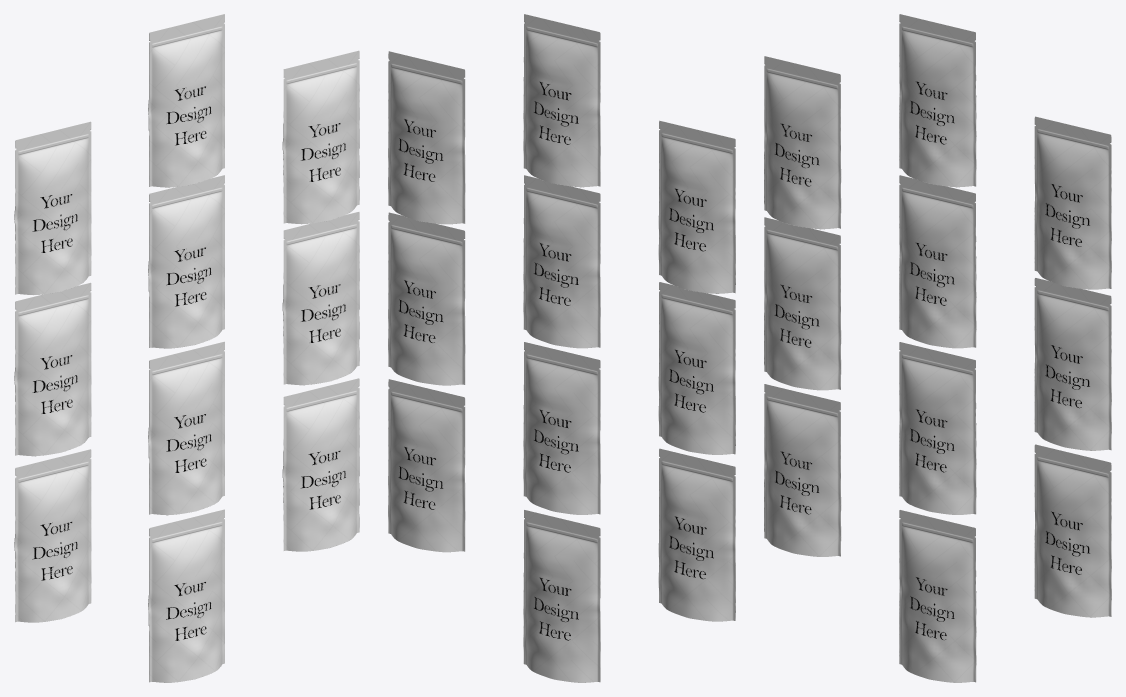
Rendered from Zip Angle-6.glb.
3 views of the same model, side by side, from view 1: azimuth 30°, elevation 25°; view 2: azimuth 150°, elevation 25°; view 3: azimuth 330°, elevation 25° (orthographic).
Visible parts, largest first — view 1: ATR001_Doypack_0.006, ATR001_Doypack_0.002, ATR001_Doypack_0, ATR001_Doypack_0.008, ATR001_Doypack_0.003, ATR001_Doypack_0.005, ATR001_Doypack_0.001, ATR001_Doypack_0.009, ATR001_Doypack_0.007, ATR001_Doypack_0.004; view 2: ATR001_Doypack_0.002, ATR001_Doypack_0.008, ATR001_Doypack_0.005, ATR001_Doypack_0.007, ATR001_Doypack_0.009, ATR001_Doypack_0.001, ATR001_Doypack_0.004, ATR001_Doypack_0, ATR001_Doypack_0.006, ATR001_Doypack_0.003; view 3: ATR001_Doypack_0.008, ATR001_Doypack_0.002, ATR001_Doypack_0.005, ATR001_Doypack_0.007, ATR001_Doypack_0.001, ATR001_Doypack_0.009, ATR001_Doypack_0.004, ATR001_Doypack_0.006, ATR001_Doypack_0, ATR001_Doypack_0.003.
Boxes of the visible parts, x1,y1,x2,y2 form: ATR001_Doypack_0.006: [14, 121, 91, 295]; ATR001_Doypack_0.002: [282, 378, 359, 551]; ATR001_Doypack_0: [14, 449, 91, 622]; ATR001_Doypack_0.008: [282, 50, 359, 224]; ATR001_Doypack_0.003: [14, 282, 91, 456]; ATR001_Doypack_0.005: [282, 211, 359, 385]; ATR001_Doypack_0.001: [148, 341, 224, 515]; ATR001_Doypack_0.009: [148, 509, 224, 682]; ATR001_Doypack_0.007: [148, 14, 224, 187]; ATR001_Doypack_0.004: [148, 175, 224, 348]; ATR001_Doypack_0.002: [388, 379, 465, 552]; ATR001_Doypack_0.008: [388, 51, 465, 224]; ATR001_Doypack_0.005: [388, 212, 465, 385]; ATR001_Doypack_0.007: [523, 14, 600, 187]; ATR001_Doypack_0.009: [523, 509, 600, 682]; ATR001_Doypack_0.001: [523, 342, 600, 514]; ATR001_Doypack_0.004: [523, 175, 600, 348]; ATR001_Doypack_0: [658, 448, 735, 621]; ATR001_Doypack_0.006: [658, 120, 735, 293]; ATR001_Doypack_0.003: [658, 282, 735, 454]; ATR001_Doypack_0.008: [1034, 116, 1111, 289]; ATR001_Doypack_0.002: [1034, 444, 1111, 617]; ATR001_Doypack_0.005: [1034, 277, 1111, 450]; ATR001_Doypack_0.007: [899, 14, 976, 187]; ATR001_Doypack_0.001: [899, 342, 976, 514]; ATR001_Doypack_0.009: [899, 509, 976, 682]; ATR001_Doypack_0.004: [899, 175, 976, 348]; ATR001_Doypack_0.006: [764, 56, 841, 229]; ATR001_Doypack_0: [764, 384, 841, 556]; ATR001_Doypack_0.003: [764, 217, 841, 390].
Bounding box in the file's own units: 0.7282 × 1.31 × 0.067.
1 material, 1 textured.
